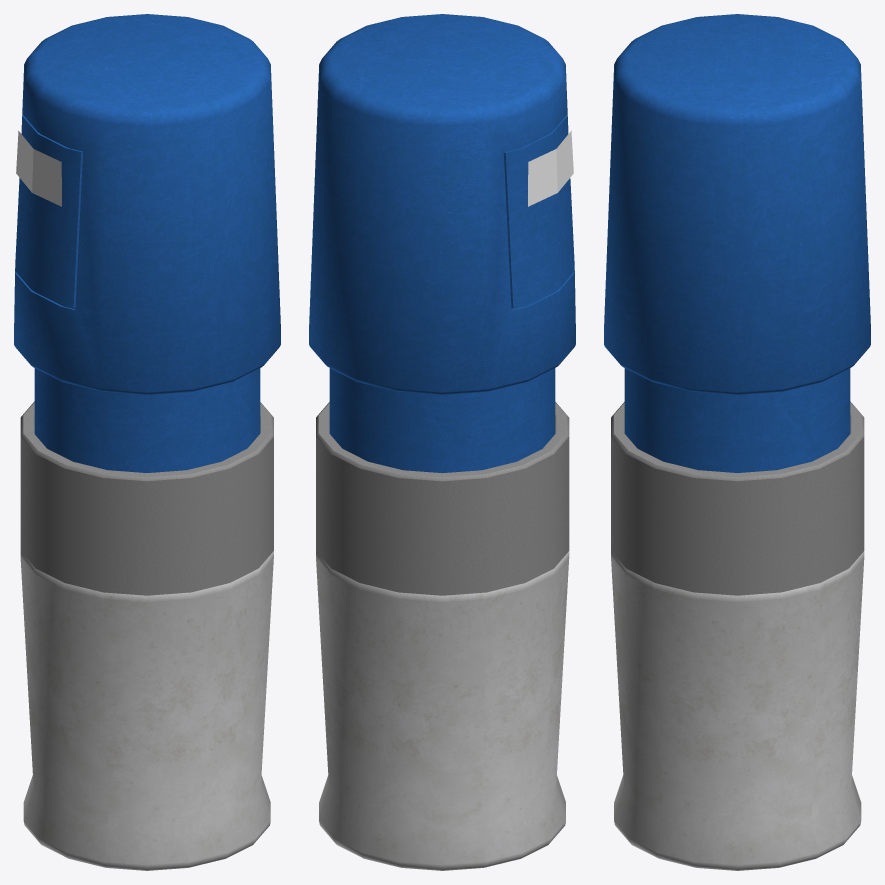
Rendered from SM_研磨机.FBX.
The picture shows the model from 3 angles, left to right: view 1: azimuth 30°, elevation 25°; view 2: azimuth 150°, elevation 25°; view 3: azimuth 270°, elevation 25°; orthographic projection.
Visible parts, largest first — view 1: SM_研磨机顶, SM_研磨机底; view 2: SM_研磨机顶, SM_研磨机底; view 3: SM_研磨机顶, SM_研磨机底.
Part boxes in pixels (<box>): SM_研磨机顶: <box>14,14,280,472</box>; SM_研磨机底: <box>20,401,273,870</box>; SM_研磨机顶: <box>309,14,575,473</box>; SM_研磨机底: <box>316,402,569,870</box>; SM_研磨机顶: <box>604,14,870,472</box>; SM_研磨机底: <box>611,401,864,870</box>.
Size of the model in its own units: 63.17 by 196 by 62.21.
